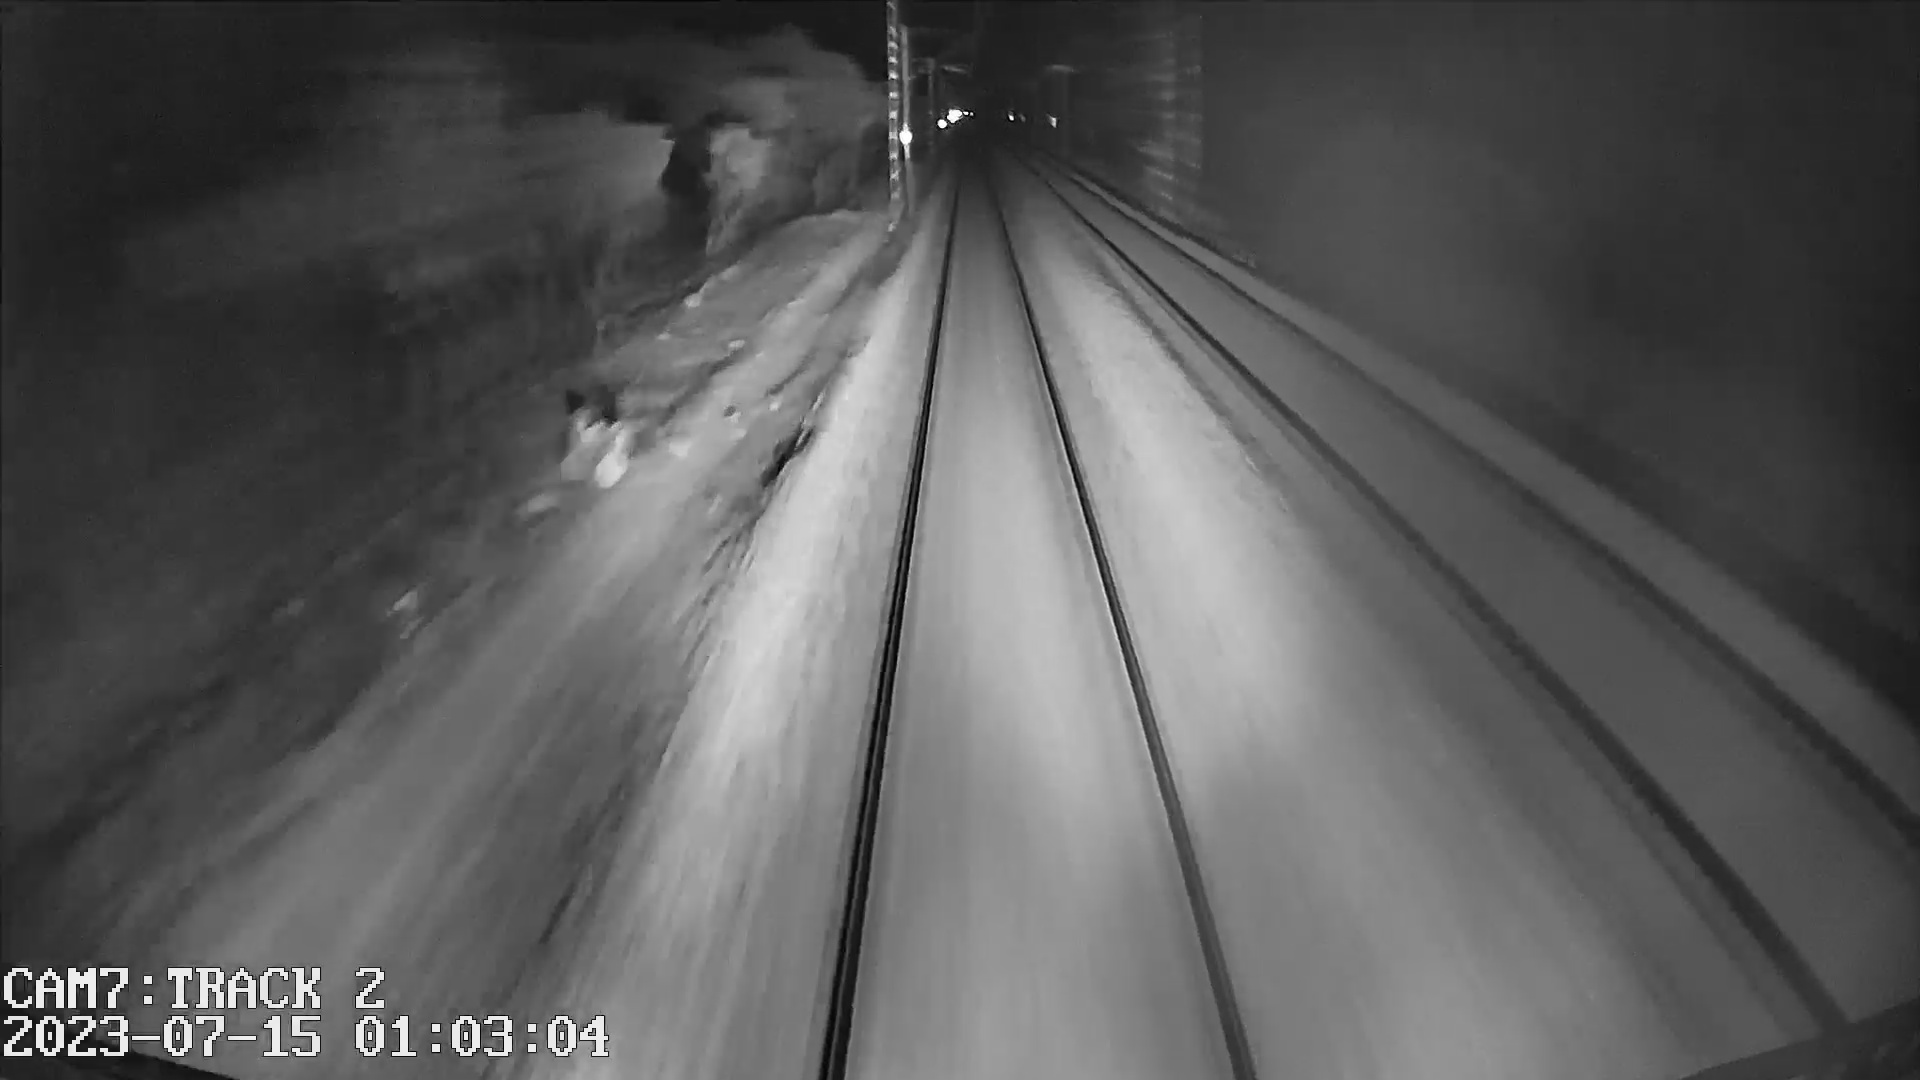track1: (833, 182, 1240, 1058)
track2: (1050, 179, 1911, 976)
